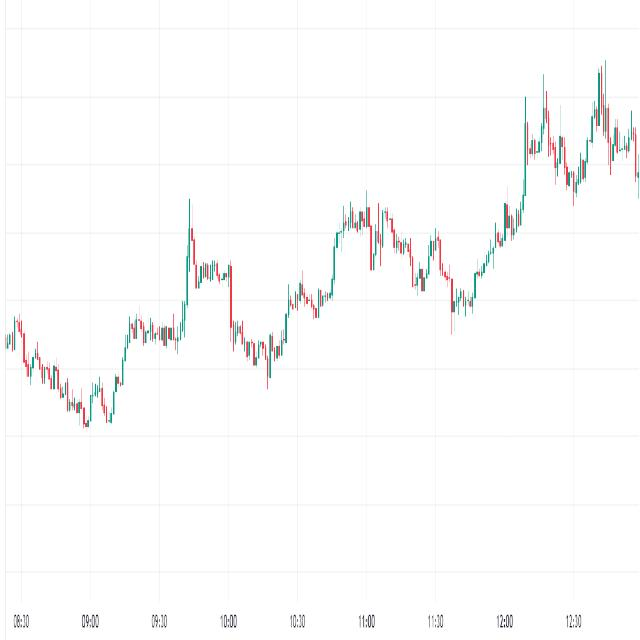Inverse-Head-Shoulders: (190, 202, 339, 396)
